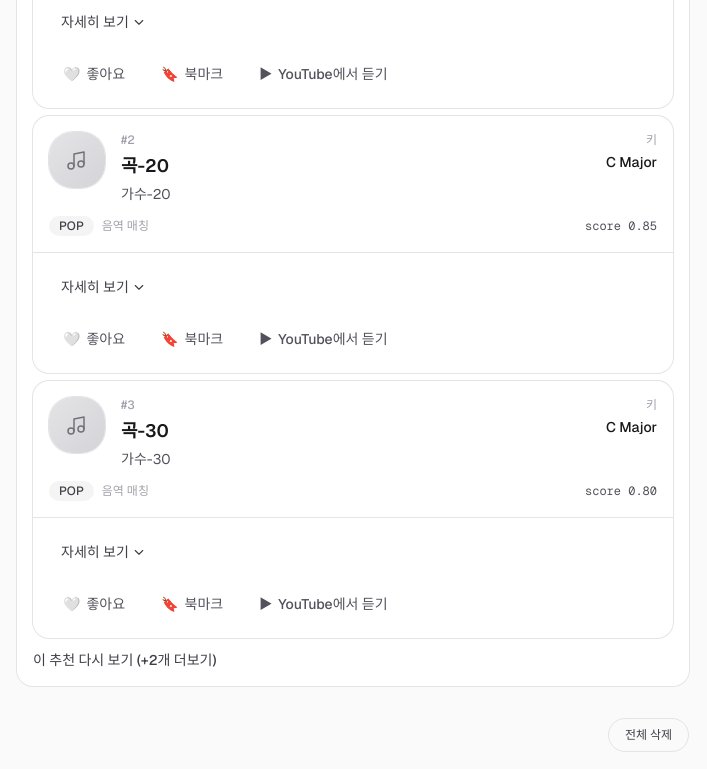
Test: HistoryPage › '이 추천 다시 보기' 클릭 시 숨겨진 곡들이 모두 펼쳐진다 (복원 동작)
(page scrolled)
Expected: the text "곡-40" is not shown
Click the button "이 추천 다시 보기 (+2개 더보기)": [125, 660] box [33, 650, 216, 670]
(page scrolled)
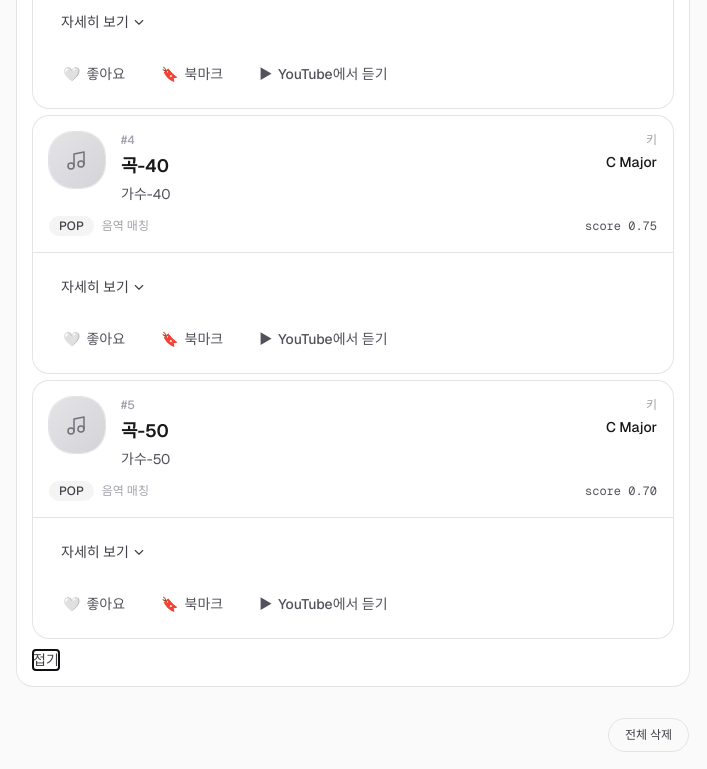
Result: the heading "곡-40" is shown at [121, 154, 169, 177]
Result: the heading "곡-50" is shown at [121, 419, 169, 442]
Result: the button "접기" is shown at [33, 650, 59, 670]
